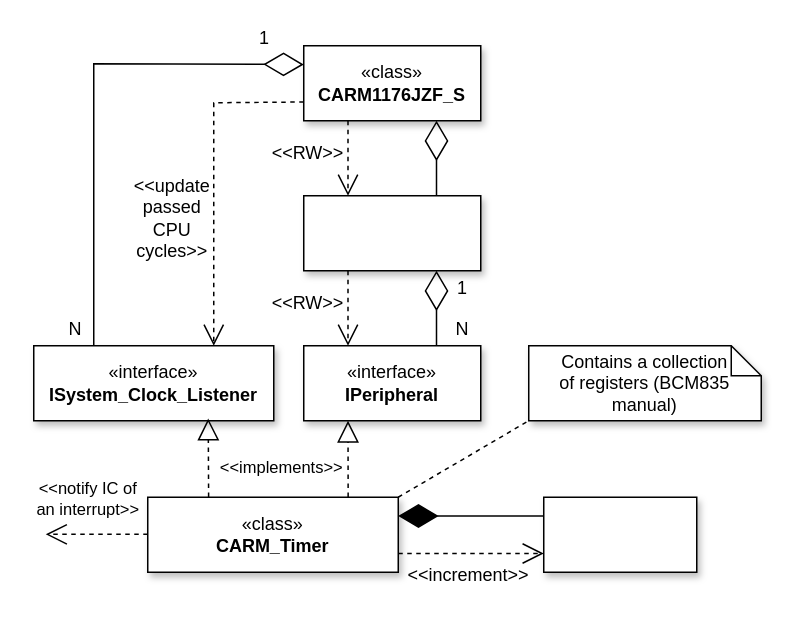
The diagram is 797 pixels wide and 624 high, and some of its shapes have lost their labels. Here are the shapes that lost their labels. From the top down, the centre of each, then its label:
At pixel 393 234: "«class» CBus".
At pixel 621 536: "«class» CPrescaler".
